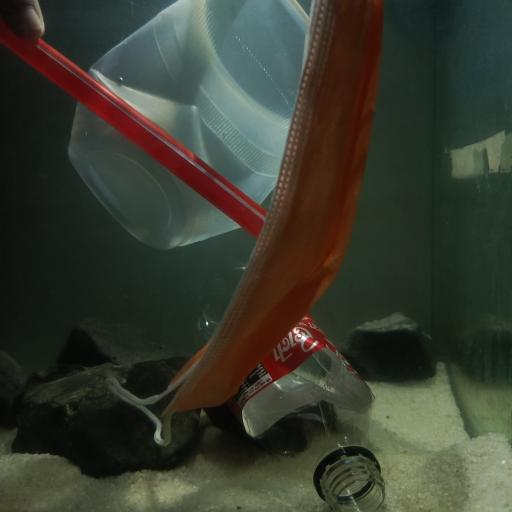mask: (110, 0, 386, 445)
plastic_bottle: (196, 268, 386, 512)
plastic_cup: (67, 0, 317, 251)
plastic_straw: (2, 25, 270, 234)
